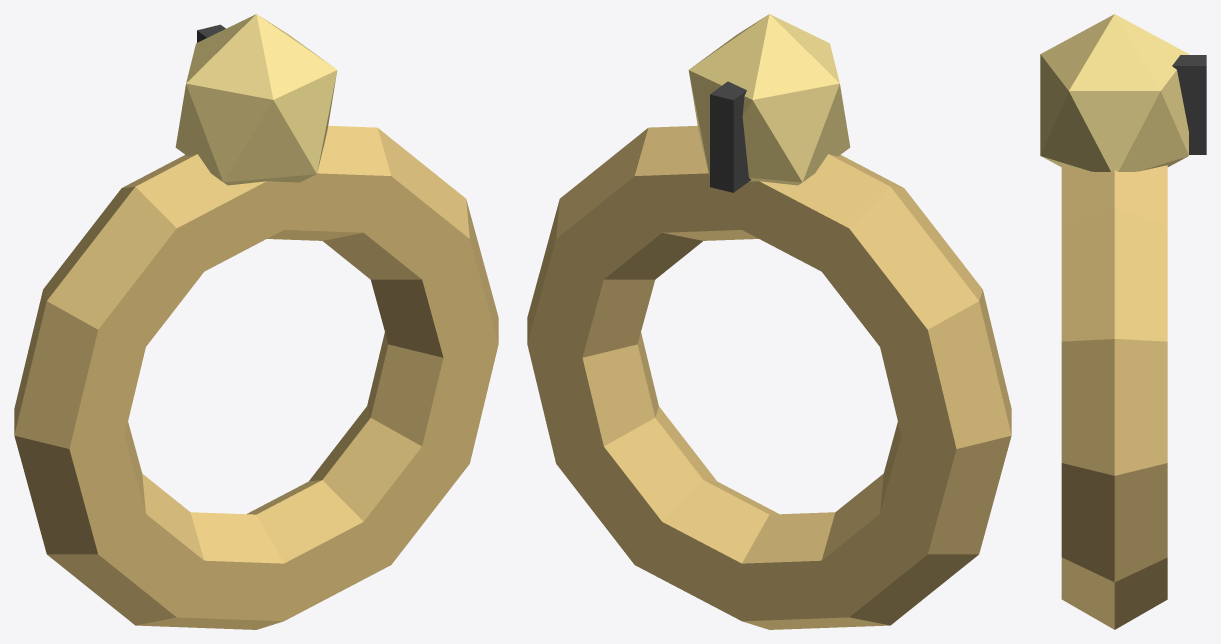
Rendered from RingLynx.fbx.
3 views of the same model, side by side, from view 1: azimuth 30°, elevation 25°; view 2: azimuth 150°, elevation 25°; view 3: azimuth 270°, elevation 25° (orthographic). The views are drawn at different scales.
Visible parts, largest first — view 1: fam_gold, fam_gold_emit; view 2: fam_gold, fam_gold_emit, fam_black; view 3: fam_gold, fam_gold_emit, fam_black.
Boxes of the visible parts, x1,y1,x2,y2 form: fam_gold: [14, 125, 498, 629]; fam_gold_emit: [175, 14, 337, 185]; fam_gold: [527, 125, 1011, 629]; fam_gold_emit: [688, 14, 850, 185]; fam_black: [710, 81, 751, 192]; fam_gold: [1061, 165, 1167, 629]; fam_gold_emit: [1040, 14, 1188, 171]; fam_black: [1172, 55, 1206, 154].
Bounding box in the file's own units: 0.861 × 1.05 × 0.2661.
